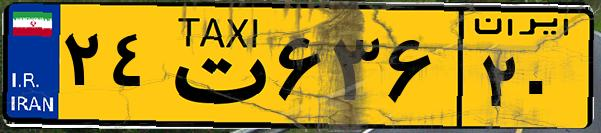0: (525, 38, 570, 115)
2: (57, 26, 110, 100), (475, 38, 525, 113)
3: (330, 28, 385, 110)
4: (110, 28, 158, 98)
6: (270, 28, 330, 110), (385, 28, 445, 110)
ت: (158, 12, 270, 120)
